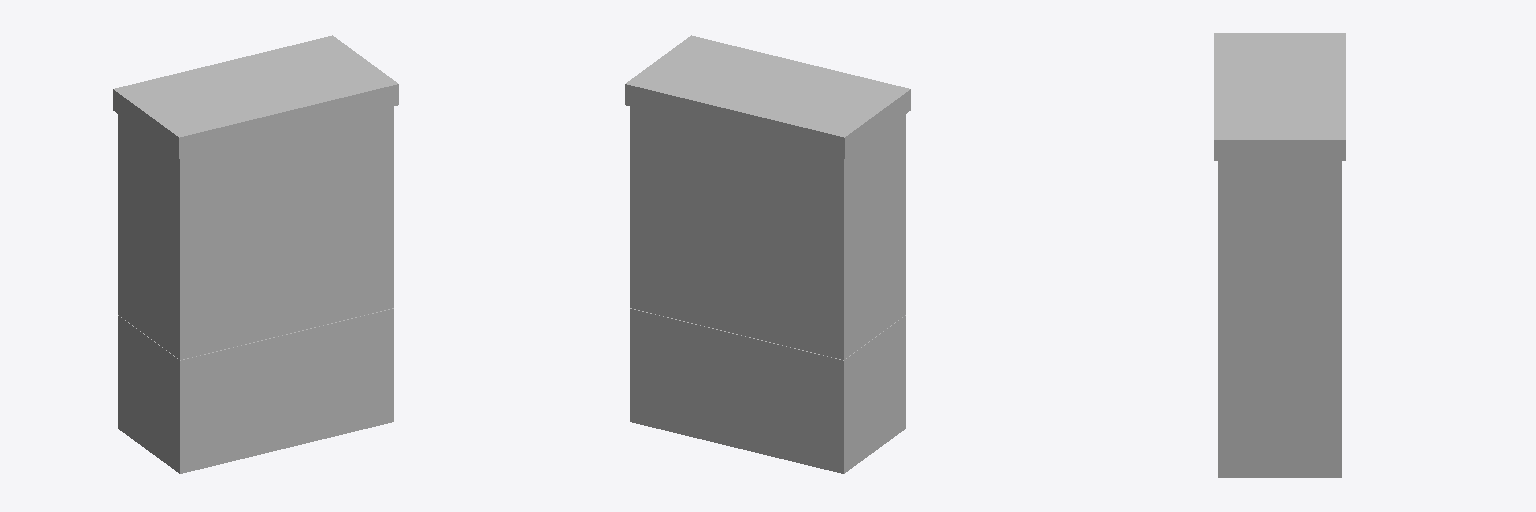
File: fridge.obj
3 renders of one model, left to right at view 1: azimuth 30°, elevation 25°; view 2: azimuth 150°, elevation 25°; view 3: azimuth 270°, elevation 25°, orthographic.
Parts seen in each view (by area): view 1: Cube.003; view 2: Cube.003; view 3: Cube.003.
Part boxes in pixels (x1,y1,x2,y2): Cube.003: (113,35,398,473); Cube.003: (625,35,910,473); Cube.003: (1214,33,1345,477).
Bounding box in the file's own units: 5.26 × 7.75 × 2.75.